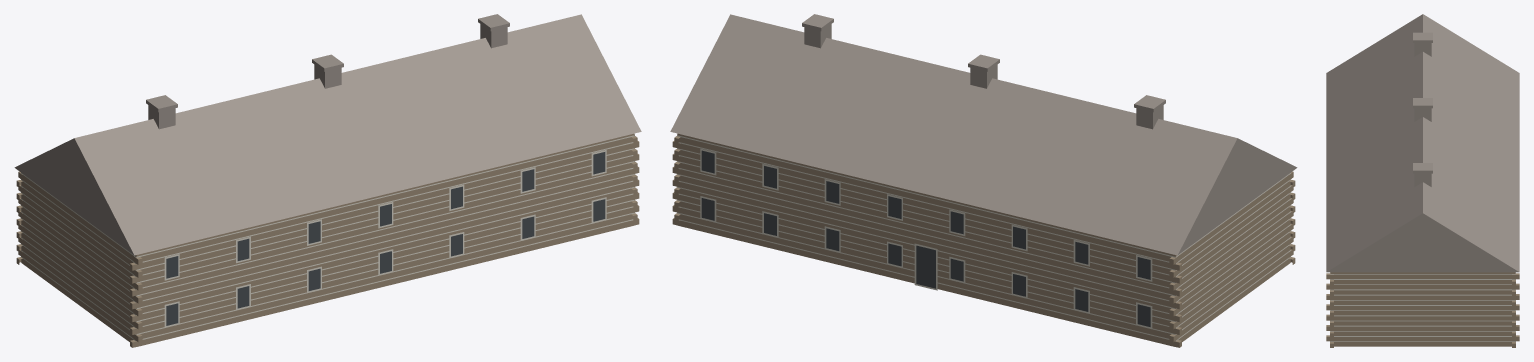
The model's file is fort_dearborn_barracks__log_1816.glb.
3 views of the same model, side by side, from view 1: azimuth 30°, elevation 25°; view 2: azimuth 150°, elevation 25°; view 3: azimuth 270°, elevation 25° (orthographic). The views are drawn at different scales.
Visible parts, largest first — view 1: fort_dearborn_barracks__log_1816; view 2: fort_dearborn_barracks__log_1816; view 3: fort_dearborn_barracks__log_1816.
Part boxes in pixels (x1,y1,x2,y2): fort_dearborn_barracks__log_1816: (14,14,641,347); fort_dearborn_barracks__log_1816: (670,14,1297,347); fort_dearborn_barracks__log_1816: (1326,14,1519,347).
Bounding box in the file's own units: 28.05 × 9.73 × 11.51.
